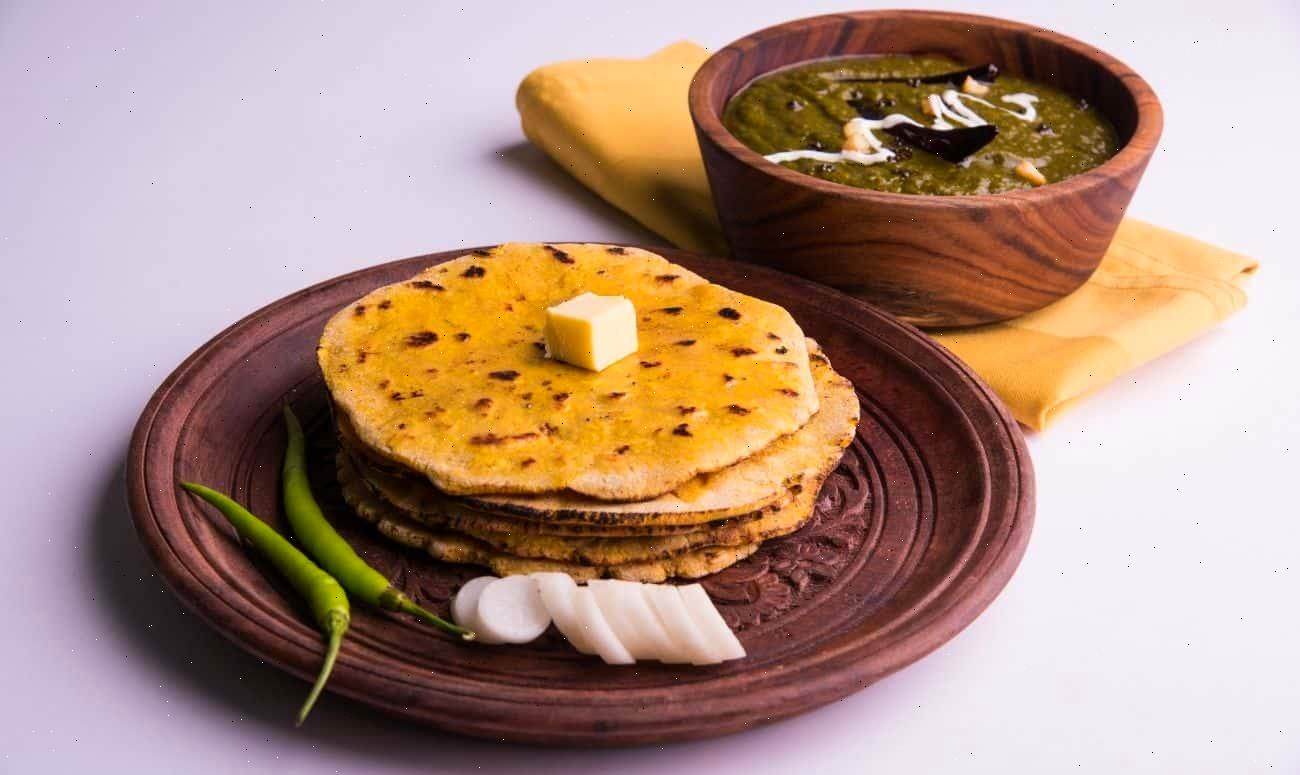saag: (730, 47, 1114, 203)
